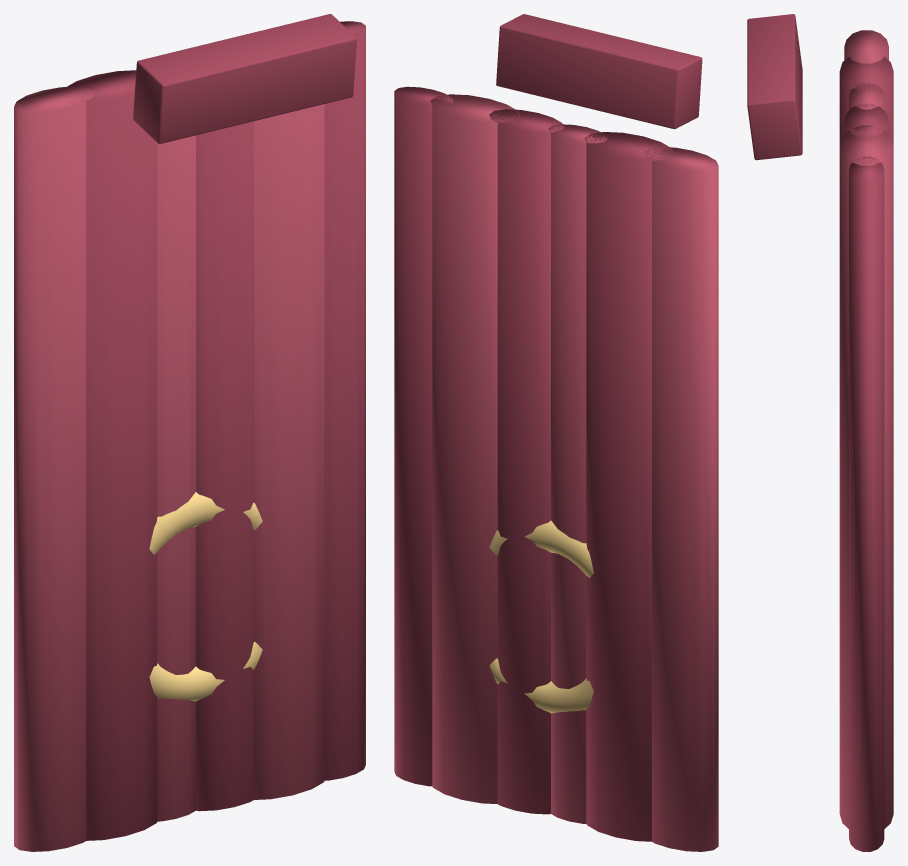
File: opera_curtain.glb
The picture shows the model from 3 angles, left to right: view 1: azimuth 30°, elevation 25°; view 2: azimuth 150°, elevation 25°; view 3: azimuth 270°, elevation 25°; orthographic projection. The views are drawn at different scales.
Parts seen in each view (by area): view 1: fold, fold.001, fold.004, fold.003, fold.005, fold.002, valance, tieback; view 2: fold, fold.001, fold.004, fold.003, fold.005, fold.002, valance, tieback; view 3: fold.005, fold.004, valance, fold.001, fold, fold.003, fold.002.
Part boxes in pixels (x1,y1,x2,y2): fold: (14, 86, 95, 851); fold.001: (62, 70, 157, 840); fold.004: (254, 104, 324, 799); fold.003: (196, 121, 253, 811); fold.005: (324, 21, 365, 780); fold.002: (134, 78, 195, 821); valance: (133, 14, 356, 143); tieback: (149, 492, 262, 701); fold: (644, 147, 718, 851); fold.001: (584, 132, 674, 841); fold.004: (430, 94, 520, 803); fold.003: (489, 109, 564, 814); fold.005: (394, 86, 453, 786); fold.002: (548, 124, 607, 823); valance: (496, 14, 702, 129); tieback: (489, 520, 593, 713); fold.005: (849, 156, 884, 851); fold.004: (839, 125, 893, 828); valance: (747, 14, 802, 160); fold.001: (839, 55, 893, 144); fold: (844, 30, 888, 63); fold.003: (844, 104, 889, 137); fold.002: (849, 83, 884, 110).
Size of the model in its own units: 3.73 by 8.19 by 1.51.
